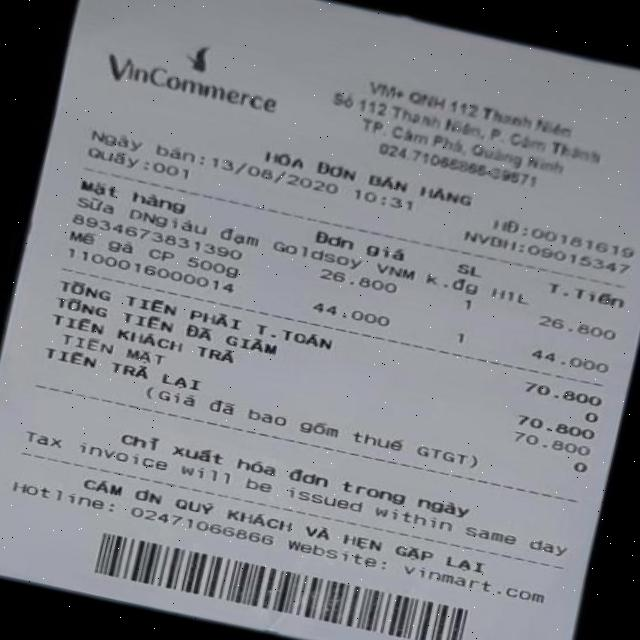Date: (204, 150, 340, 198)
Store_Name: (77, 9, 324, 142)
amount_number: (518, 374, 608, 410)
label_total: (57, 274, 346, 355)
